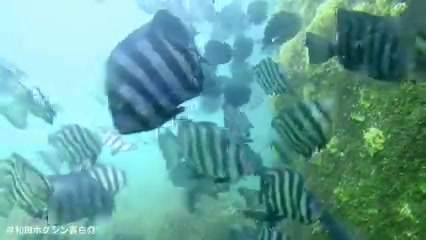ishidai: (101, 19, 206, 137), (161, 107, 260, 175), (312, 18, 405, 78), (272, 97, 338, 153), (255, 170, 324, 218), (42, 124, 109, 172), (251, 56, 286, 95)
